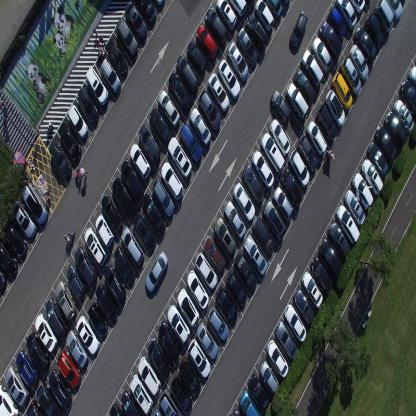car: (21, 182, 48, 225), (167, 135, 192, 178), (120, 160, 144, 204), (144, 250, 168, 294), (26, 331, 50, 375), (260, 131, 285, 173), (4, 366, 29, 407), (142, 192, 165, 236), (111, 176, 135, 218), (244, 234, 268, 276), (167, 303, 191, 345), (147, 337, 171, 379), (198, 90, 222, 132), (318, 20, 342, 62), (75, 315, 100, 355), (84, 226, 107, 269), (133, 211, 157, 252), (178, 121, 202, 162), (137, 355, 161, 396), (129, 374, 153, 415), (12, 200, 37, 239), (186, 268, 209, 310), (263, 199, 286, 241), (176, 288, 200, 328), (95, 283, 119, 323), (187, 338, 211, 378), (169, 374, 193, 414), (34, 313, 58, 353), (57, 349, 81, 389), (48, 369, 72, 409), (336, 204, 360, 244), (57, 121, 81, 161), (2, 220, 27, 258), (223, 199, 246, 240), (137, 124, 160, 165), (234, 251, 257, 292), (103, 263, 126, 304), (65, 329, 88, 370), (207, 72, 230, 113), (115, 16, 138, 57), (178, 356, 202, 395), (48, 139, 72, 178), (218, 58, 240, 100), (233, 181, 256, 221), (121, 226, 144, 266), (251, 148, 274, 188), (45, 297, 68, 337), (85, 66, 108, 106), (113, 247, 137, 285), (15, 349, 39, 387), (300, 50, 324, 88), (242, 163, 264, 204), (158, 321, 180, 362), (189, 106, 211, 147), (125, 0, 147, 41), (215, 285, 238, 324), (152, 178, 175, 217), (168, 72, 191, 111), (274, 320, 297, 359), (194, 252, 218, 289), (55, 279, 76, 321), (158, 88, 180, 128), (253, 216, 275, 256), (74, 246, 96, 286), (161, 161, 183, 201), (176, 54, 198, 94), (266, 338, 288, 378), (204, 7, 227, 45), (105, 37, 128, 75), (384, 111, 408, 147), (340, 55, 361, 96), (214, 217, 236, 256), (100, 195, 122, 234), (203, 236, 225, 275), (196, 322, 218, 361), (286, 81, 308, 120), (361, 158, 383, 197), (77, 86, 99, 125), (245, 12, 268, 49), (227, 42, 248, 82), (331, 70, 352, 110), (149, 106, 171, 144), (269, 118, 291, 156), (281, 168, 303, 206), (352, 172, 374, 210), (344, 188, 366, 226), (328, 221, 350, 259), (302, 270, 324, 308), (36, 382, 61, 415), (316, 102, 337, 141), (354, 26, 376, 63), (376, 125, 398, 162), (368, 141, 390, 178), (319, 239, 341, 276), (310, 257, 332, 294), (284, 304, 306, 341), (66, 103, 88, 140), (129, 143, 150, 181), (237, 28, 258, 66), (297, 134, 318, 172), (289, 150, 310, 188), (294, 288, 315, 326), (249, 372, 270, 410), (100, 56, 121, 94), (0, 235, 19, 277), (289, 9, 308, 50), (311, 36, 332, 73), (393, 97, 414, 134), (226, 271, 248, 306), (293, 69, 315, 104), (325, 89, 345, 127), (196, 25, 217, 61), (273, 186, 294, 222), (307, 119, 327, 156), (270, 88, 290, 124), (87, 302, 108, 336), (373, 0, 394, 34), (365, 11, 384, 48), (350, 43, 368, 82), (208, 306, 228, 341), (66, 264, 86, 299), (186, 40, 206, 74), (400, 79, 416, 120), (95, 214, 114, 248), (327, 6, 346, 40), (335, 0, 357, 29), (216, 0, 237, 30), (260, 360, 278, 395), (159, 389, 183, 415), (254, 0, 274, 31), (0, 383, 19, 415), (239, 389, 261, 415), (121, 390, 143, 415), (135, 0, 157, 25), (385, 0, 403, 22), (264, 0, 283, 20), (26, 397, 47, 415), (227, 0, 247, 17), (349, 0, 365, 15), (408, 64, 415, 91), (109, 402, 123, 415), (0, 265, 7, 290), (152, 0, 166, 7), (230, 408, 243, 415), (152, 408, 163, 416), (280, 0, 290, 8)
